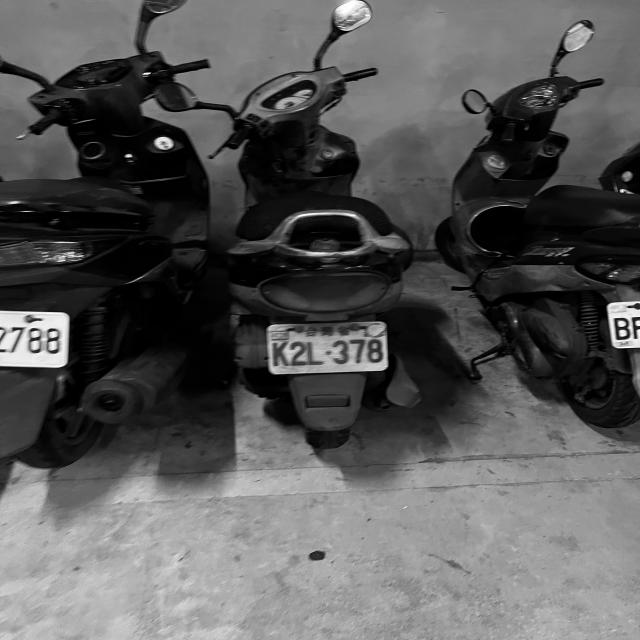-: (324, 348, 334, 356)
2: (289, 340, 307, 366)
3: (330, 338, 350, 364)
7: (9, 325, 27, 353), (348, 338, 366, 364)
8: (46, 325, 62, 357), (367, 337, 385, 363), (28, 326, 44, 354)
B: (612, 316, 630, 342)
K: (272, 342, 290, 366)
L: (306, 340, 325, 367)
plate: (267, 325, 391, 371)
